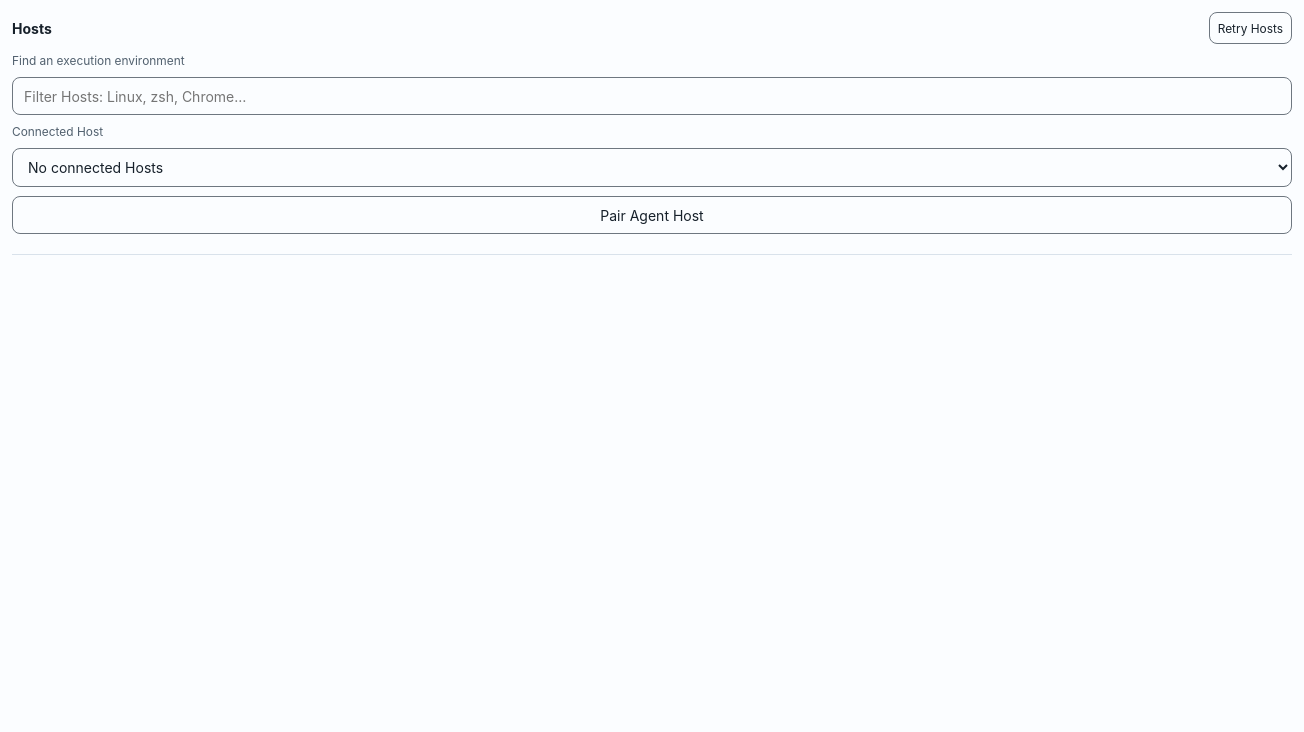
it: serves hosted installer commands from the pairing origin and copies the displayed command
The width and height of the screenshot is (1304, 732).
Click the button "Pair Agent Host" at (652, 215), box [12,196,1292,234]
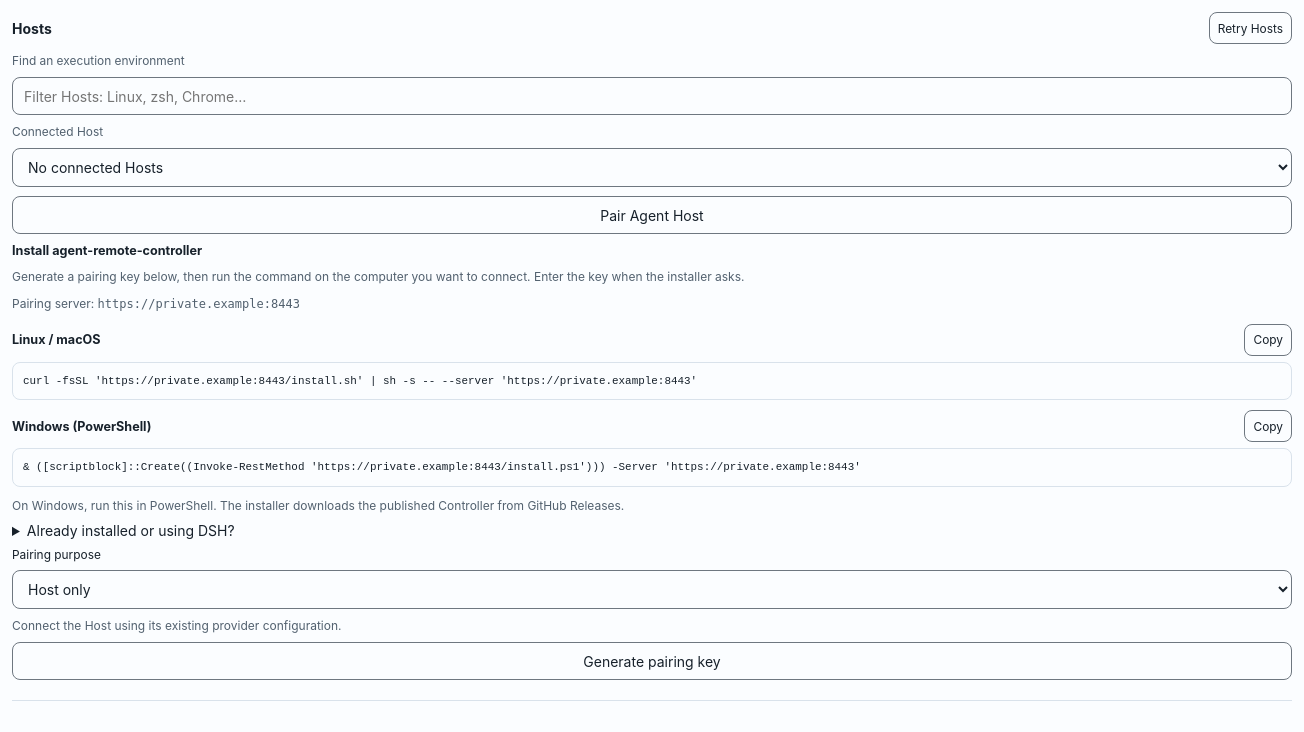
Check: the element named "Linux / macOS install command" shows "curl -fsSL 'https://private.example:8443/install.sh' | sh -s -- --server 'https://private.example:8443'", box [23,375,697,387]
Click the button with aria-label "Copy Linux / macOS install command" at (1268, 340), box [1244,324,1292,356]
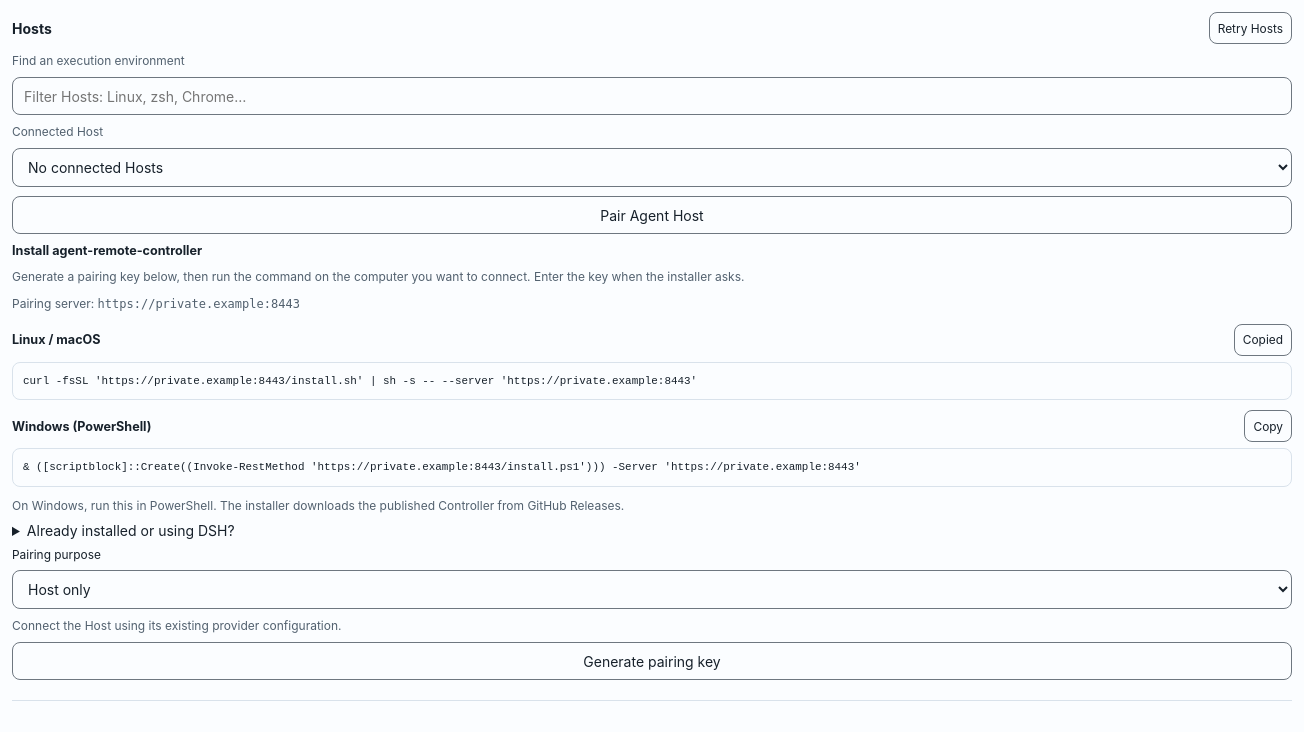
Check: the text "Copied" is shown, box [1234,324,1292,356]
